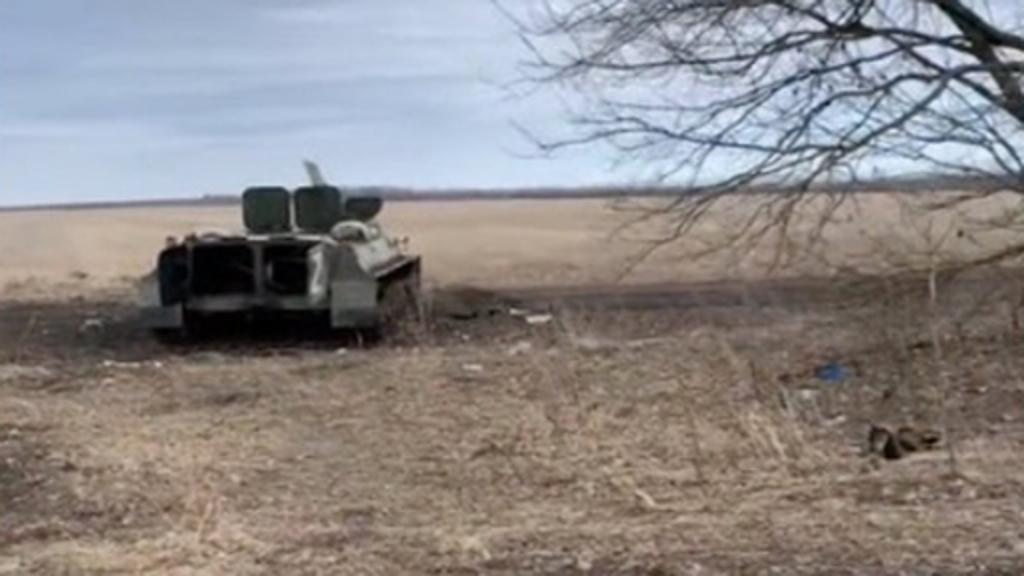APC-IFV: (130, 170, 428, 354)
